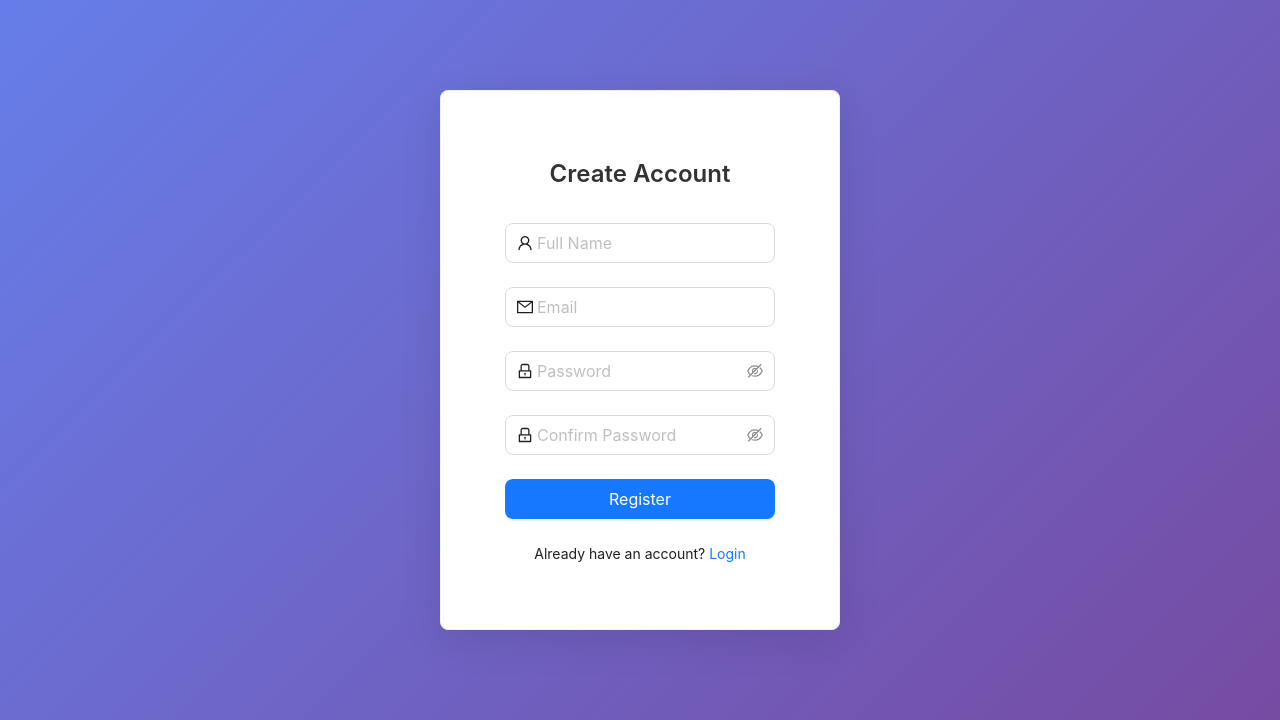
Test: Register Component › should show validation errors for empty fields
Click the button "Register" at (640, 499), box [505,479,775,519]
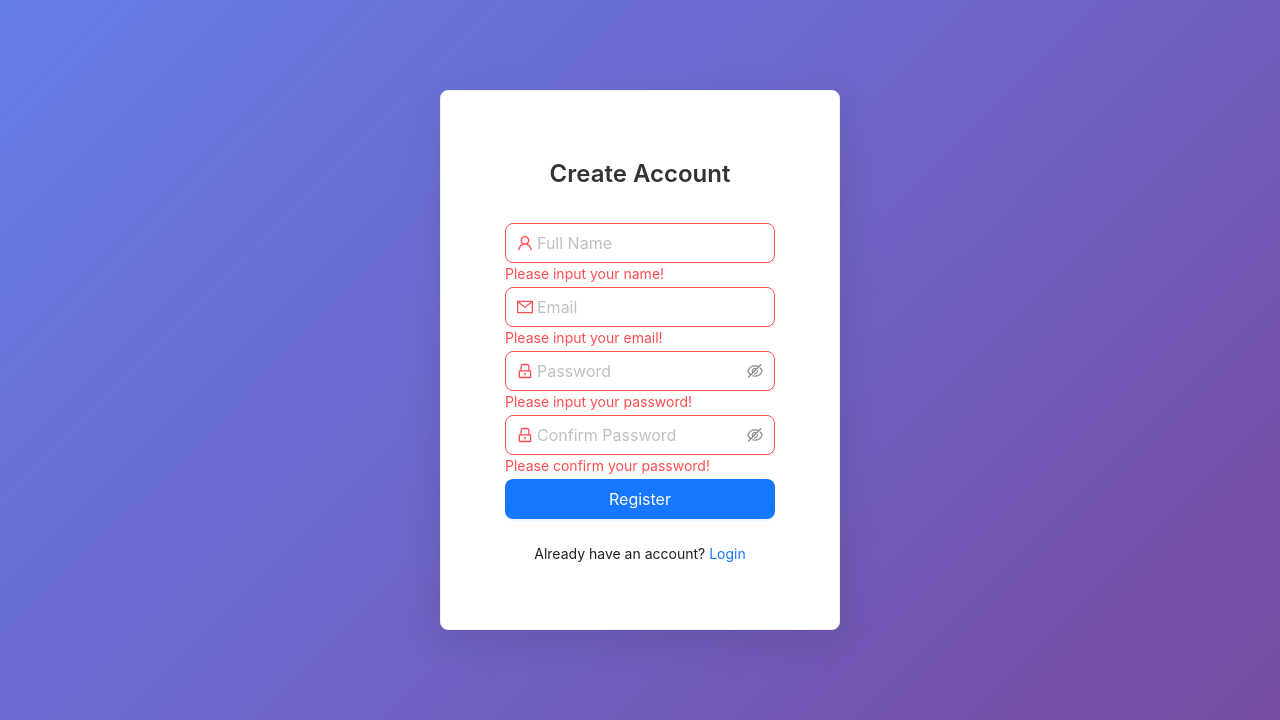
Expected: the text "Please input your name!" is shown, [505,265,664,282]
Expected: the text "Please input your email!" is shown, [505,329,663,346]
Expected: the text "Please input your password!" is shown, [505,393,692,410]
